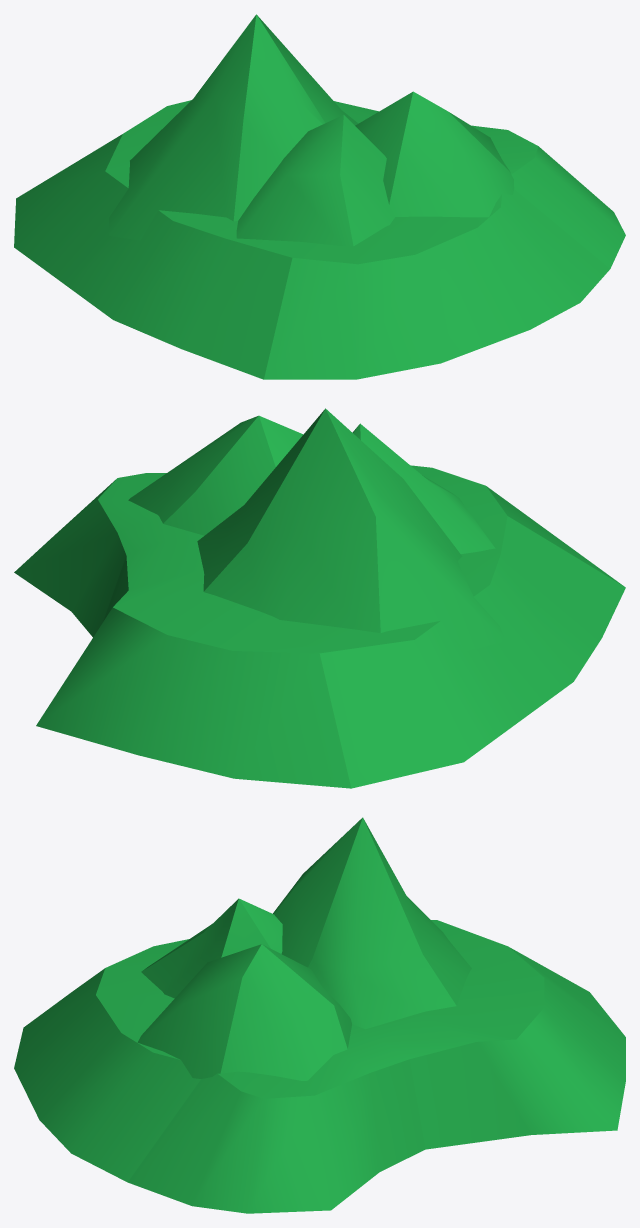
File: island.FBX
3 renders of one model, top to bottom at view 1: azimuth 30°, elevation 25°; view 2: azimuth 150°, elevation 25°; view 3: azimuth 270°, elevation 25°, orthographic. The views are drawn at different scales.
Parts seen in each view (by area): view 1: Box001, Pyramid001, Pyramid003, Pyramid002; view 2: Box001, Pyramid001, Pyramid002, Pyramid003; view 3: Box001, Pyramid001, Pyramid002, Pyramid003.
Boxes of the visible parts, bbox=[...] form: Box001: bbox=[14, 100, 625, 379]; Pyramid001: bbox=[109, 14, 358, 240]; Pyramid003: bbox=[236, 115, 394, 246]; Pyramid002: bbox=[355, 91, 514, 217]; Box001: bbox=[14, 465, 625, 788]; Pyramid001: bbox=[197, 408, 505, 651]; Pyramid002: bbox=[128, 415, 303, 535]; Pyramid003: bbox=[352, 423, 495, 553]; Box001: bbox=[14, 920, 625, 1213]; Pyramid001: bbox=[273, 817, 471, 1029]; Pyramid002: bbox=[137, 944, 351, 1080]; Pyramid003: bbox=[141, 898, 282, 998].
Size of the model in its own units: 14287 by 14891 by 6499.
1 material, 1 textured.
